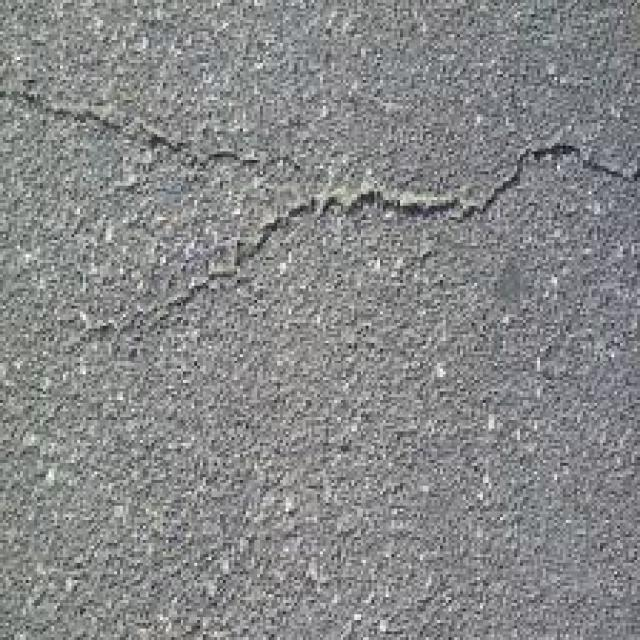crack: (0, 64, 640, 266)
